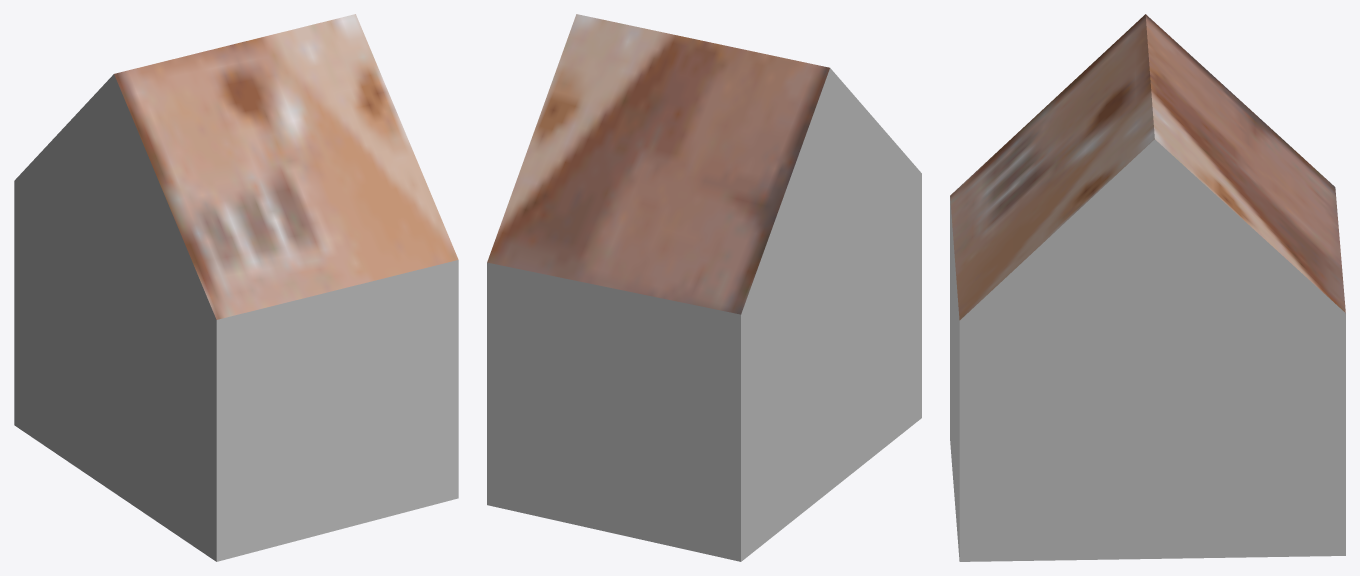
File: DEBW_0010007Txe4.gltf
3 renders of one model, left to right at view 1: azimuth 30°, elevation 25°; view 2: azimuth 150°, elevation 25°; view 3: azimuth 270°, elevation 25°, orthographic.
Visible parts, largest first — view 1: Z_UP; view 2: Z_UP; view 3: Z_UP.
Part boxes in pixels (<box>): Z_UP: <box>14,14,458,561</box>; Z_UP: <box>487,14,921,561</box>; Z_UP: <box>950,14,1345,561</box>.
Bounding box in the file's own units: 8.62 × 13.35 × 11.31.
Materials: 2 (1 with a texture image).
